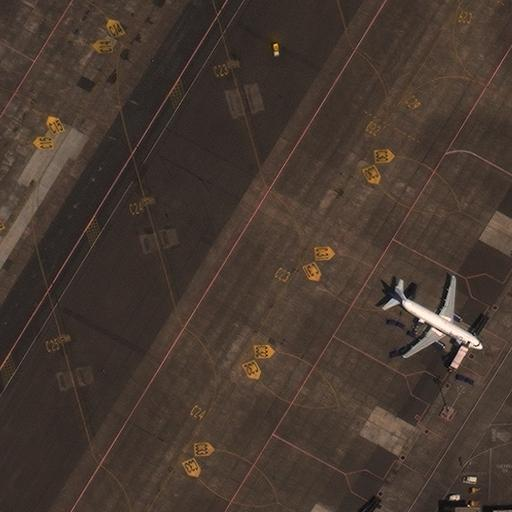Medium Civil Transport: (395, 277, 482, 358)
